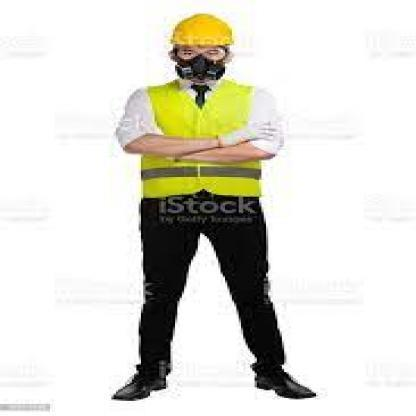helmet: (168, 19, 240, 49)
mask: (168, 51, 230, 81)
vest: (126, 76, 264, 198)
